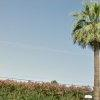Tree: (61, 3, 100, 58)
